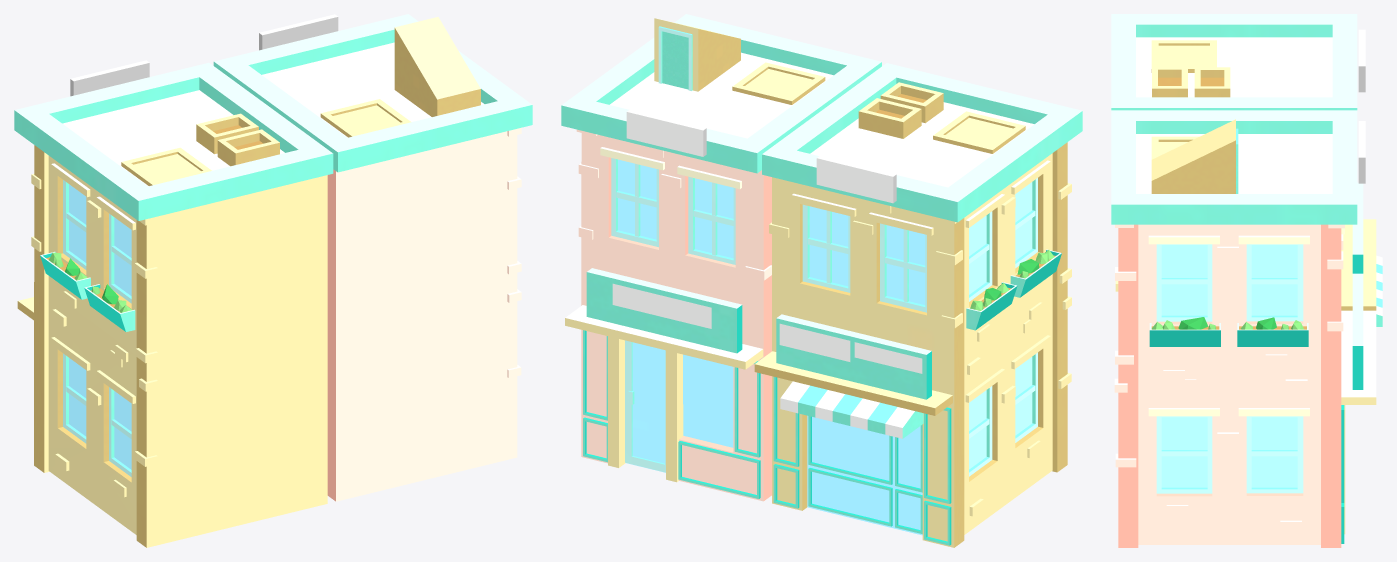
File: dwelling&store.005.glb
3 views of the same model, side by side, from view 1: azimuth 30°, elevation 25°; view 2: azimuth 150°, elevation 25°; view 3: azimuth 270°, elevation 25° (orthographic).
Visible parts, largest first — view 1: dwelling&store.005(Clone); view 2: dwelling&store.005(Clone); view 3: dwelling&store.005(Clone).
Boxes of the visible parts, box(x1,y1,x2,y2) form: dwelling&store.005(Clone): box(14, 14, 532, 547); dwelling&store.005(Clone): box(561, 14, 1082, 547); dwelling&store.005(Clone): box(1111, 14, 1382, 547).
Size of the model in its own units: 7.16 by 6.98 by 4.31.
Materials: 1 (1 with a texture image).
